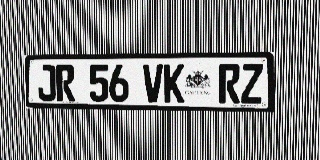5: (89, 64, 109, 102)
6: (109, 64, 129, 102)
J: (37, 65, 56, 101)
K: (164, 64, 184, 103)
R: (218, 64, 240, 103), (56, 65, 75, 101)
V: (143, 64, 163, 102)
Z: (241, 63, 263, 104)
